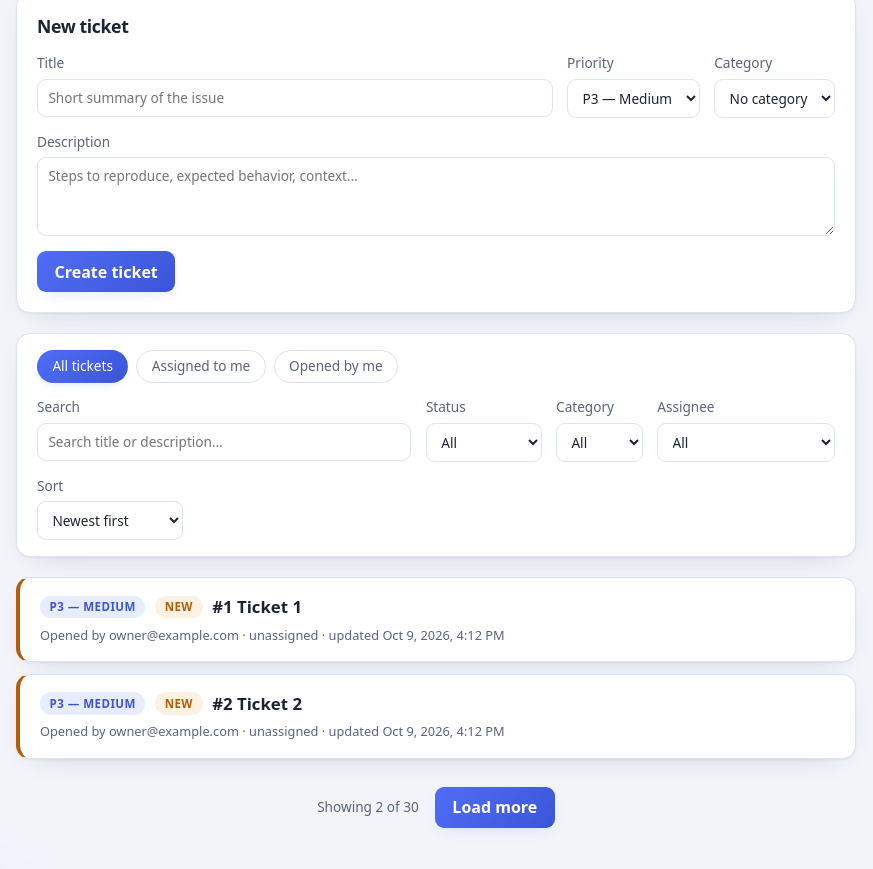
Scenario: pagination › appends the next page on Load more and hides the footer when complete
The image size is (873, 869).
(page scrolled)
Expected: the heading "#1 Ticket 1" is shown, [212,594,302,619]
Click the button "Load more" at (495, 808), box [435,787,555,828]
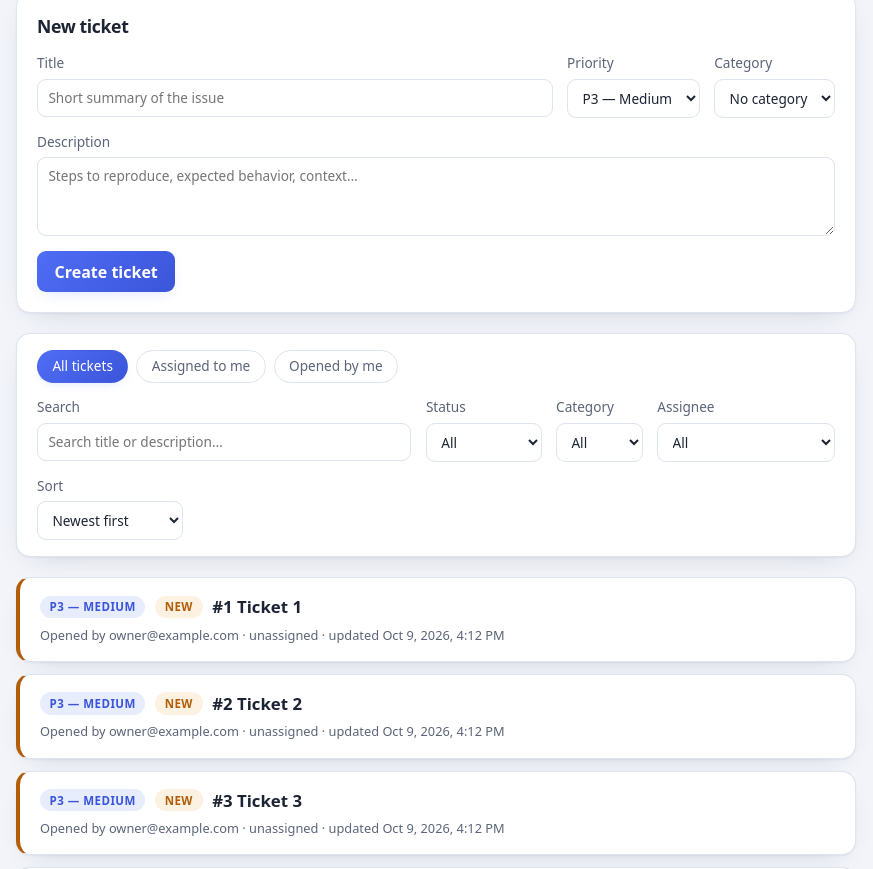
Expected: the heading "#1 Ticket 1" is shown, [212,594,302,619]
Expected: the button "Load more" is gone
